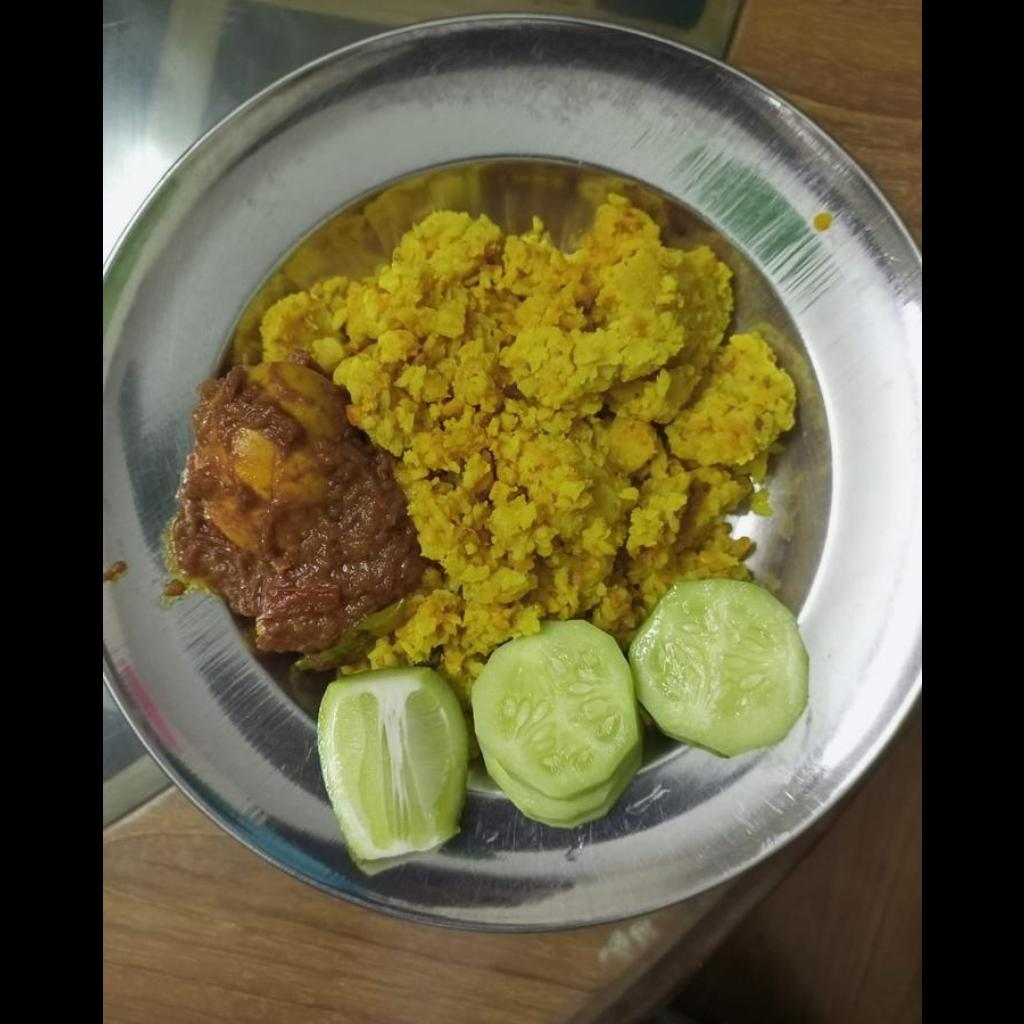chicken: (202, 368, 413, 657)
cucumber: (473, 581, 801, 828)
khichuri: (263, 191, 788, 642)
lemon: (321, 673, 464, 857)
